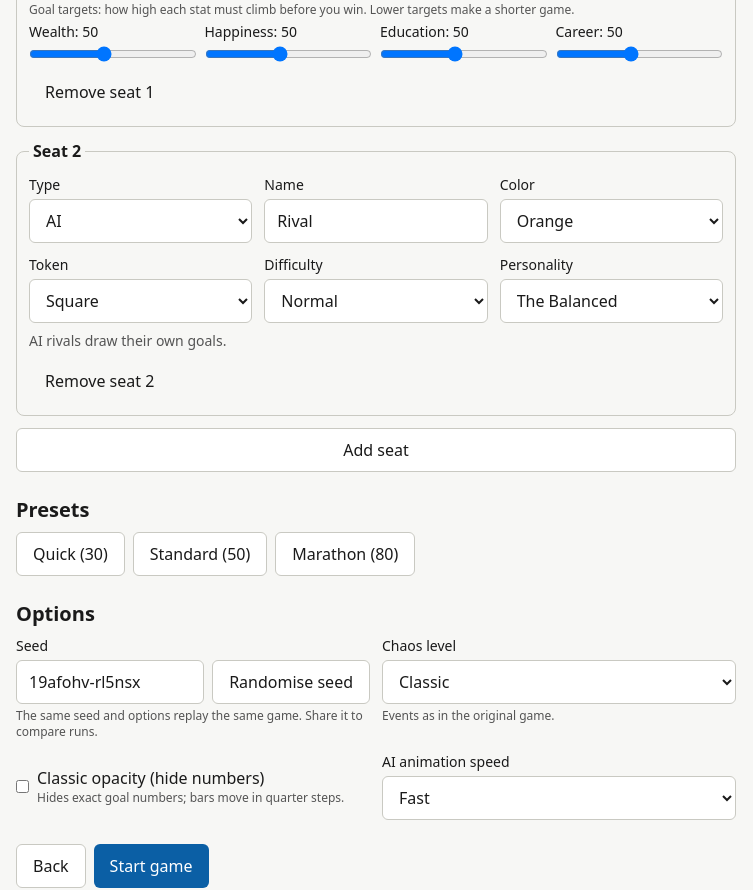
Scenario: setup screen › adds and removes seats up to four
(page scrolled)
Check: the element with test id "seat-1" is shown, box [16, 139, 736, 416]
Click the button with test id "add-seat" at (376, 450), box [16, 428, 736, 472]
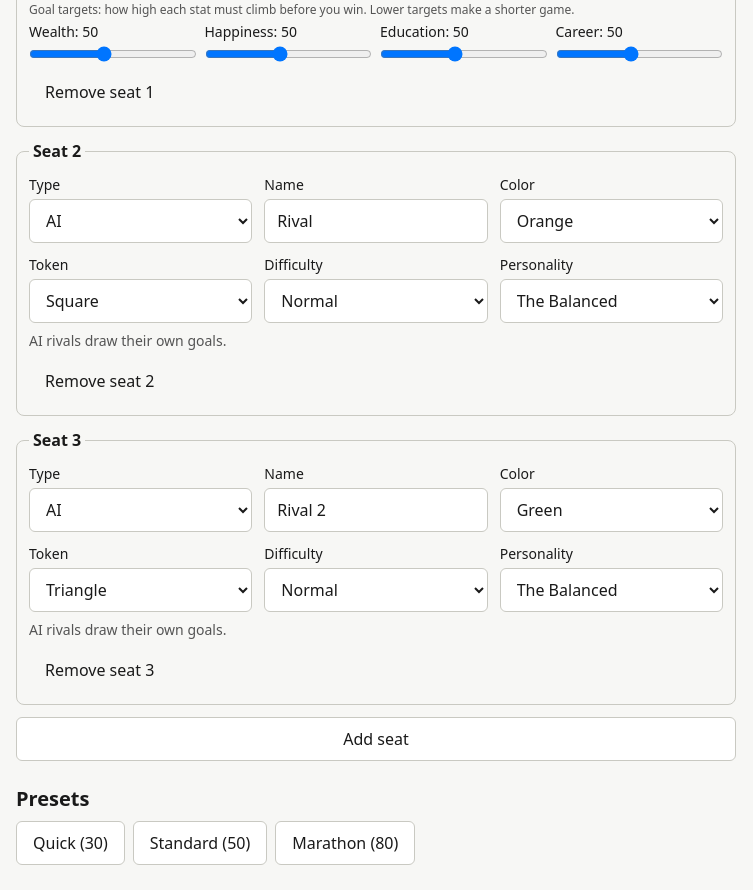
Check: the element with test id "seat-2" is shown, box [16, 428, 736, 705]
